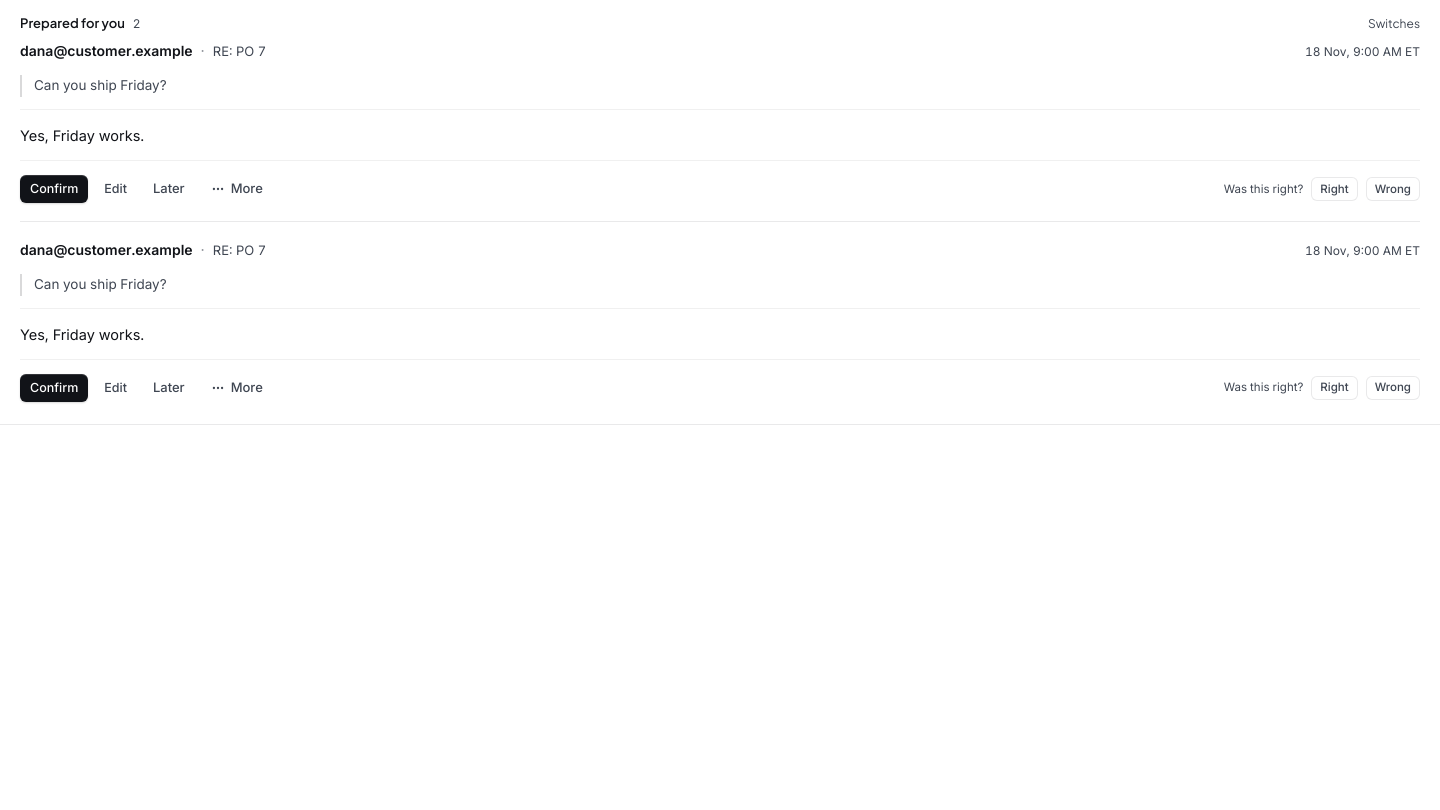
Scenario: the queue on Home and its Switches tab › Always do this is offered only where Auto was earned, for the sender or the whole switch
The image size is (1440, 810).
Click the 2nd button "More" at [237, 388], box [201,372,273,404]
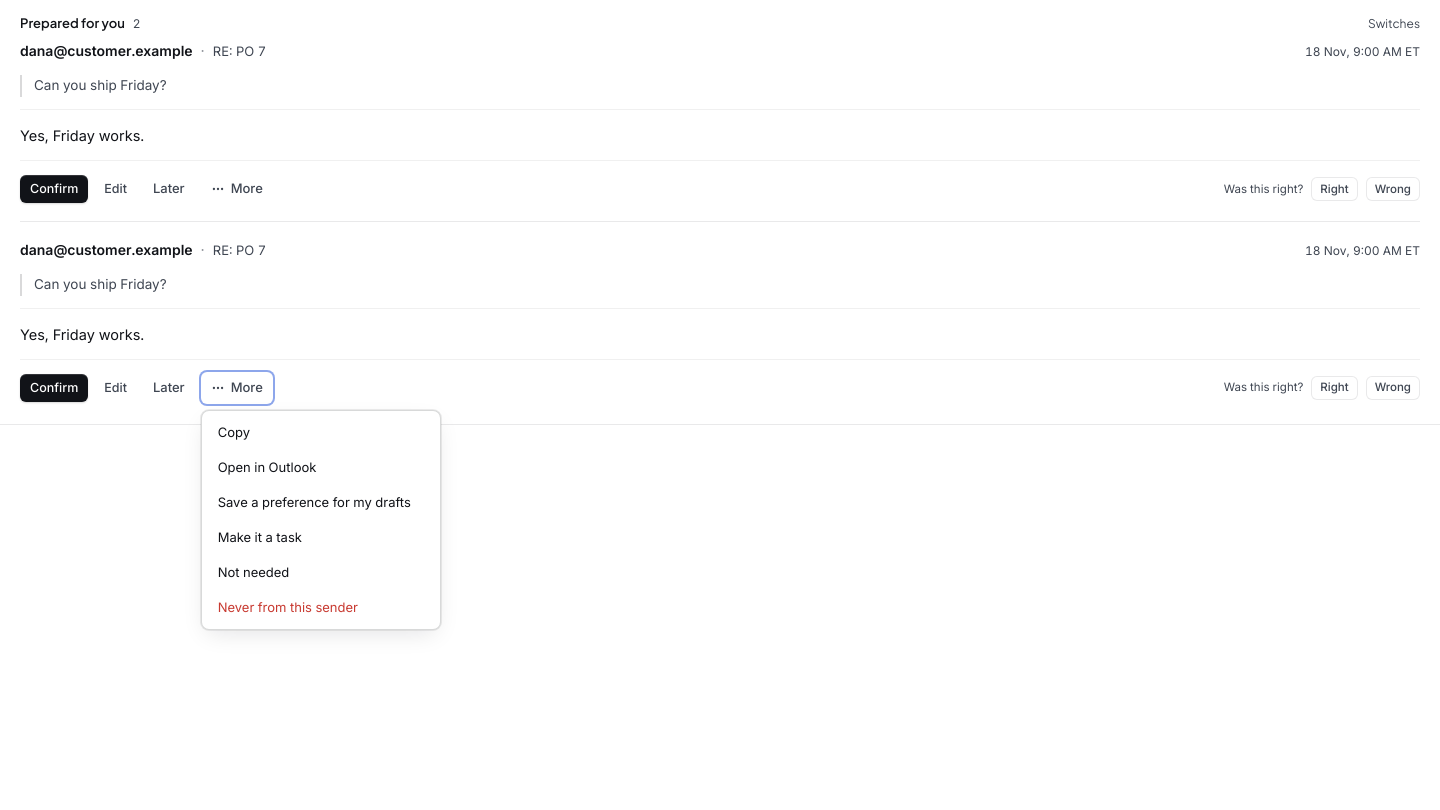
Expected: the menu item "Always" is not shown
Click the 2nd button "More" at [237, 388], box [201,372,273,404]
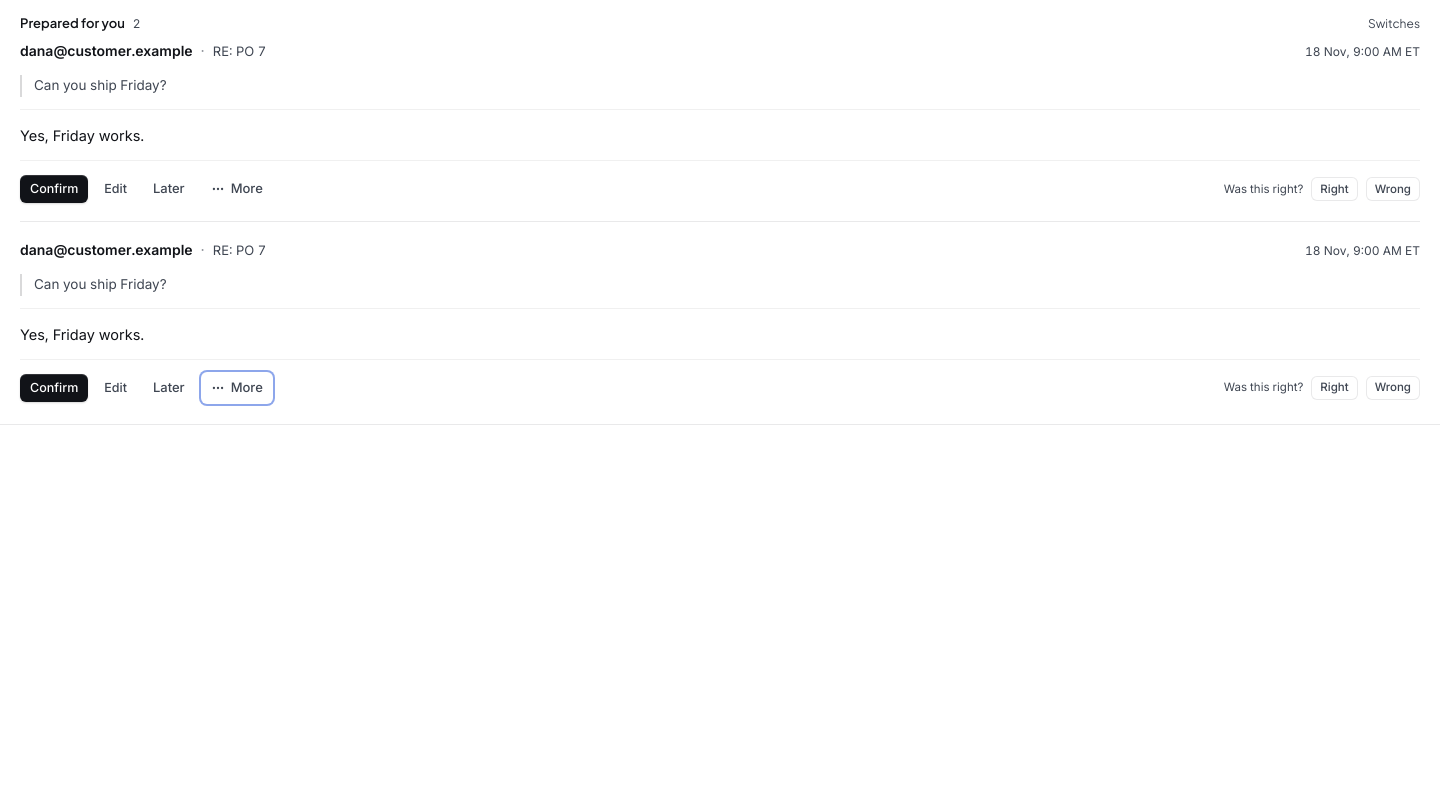
Click the 1st button "More" at [237, 189], box [201,173,273,205]
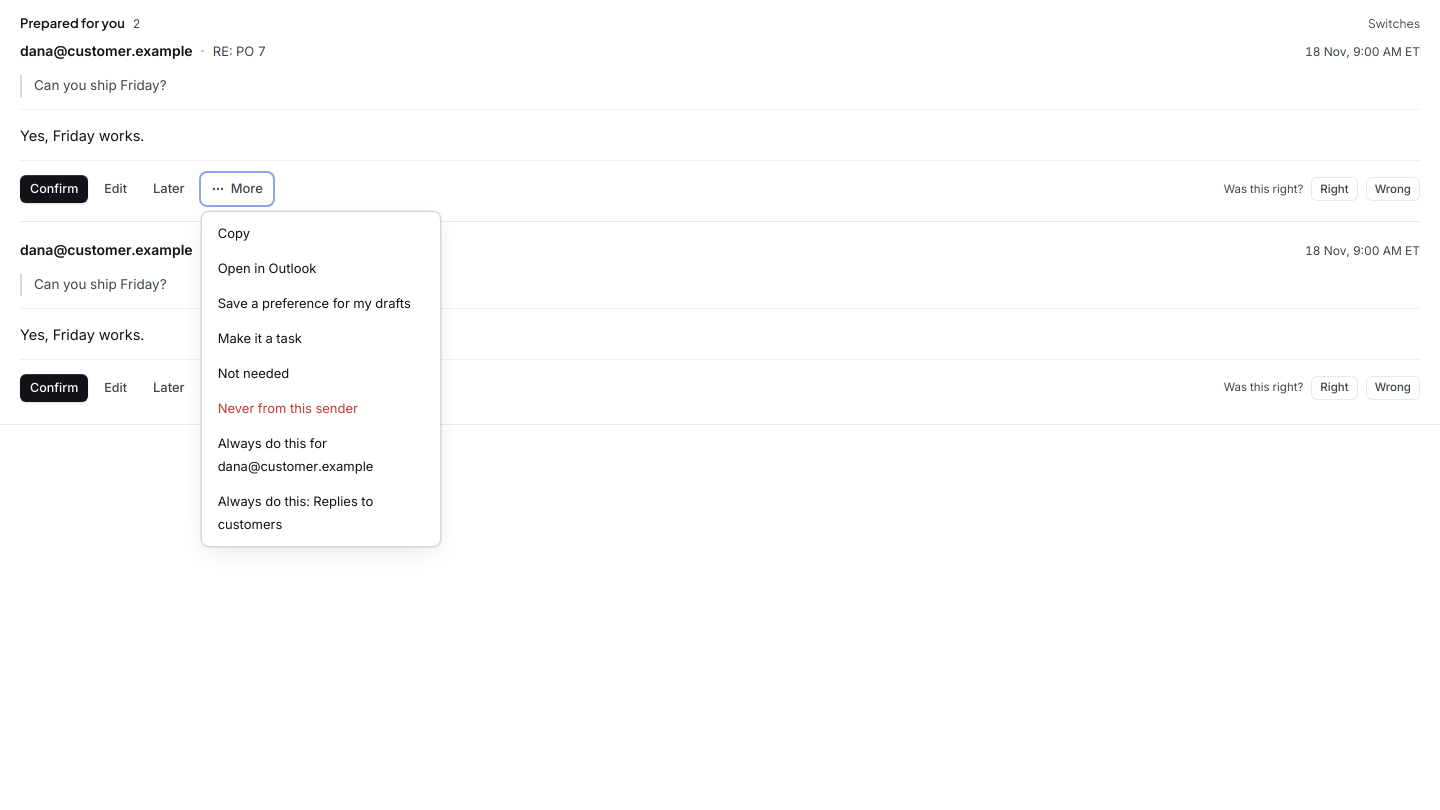
Expected: the menu item "Always do this: Replies to customers" is shown, [206,484,436,542]
Click the menu item "Always do this for dana@customer.example" at [321, 455], box [206,426,436,484]
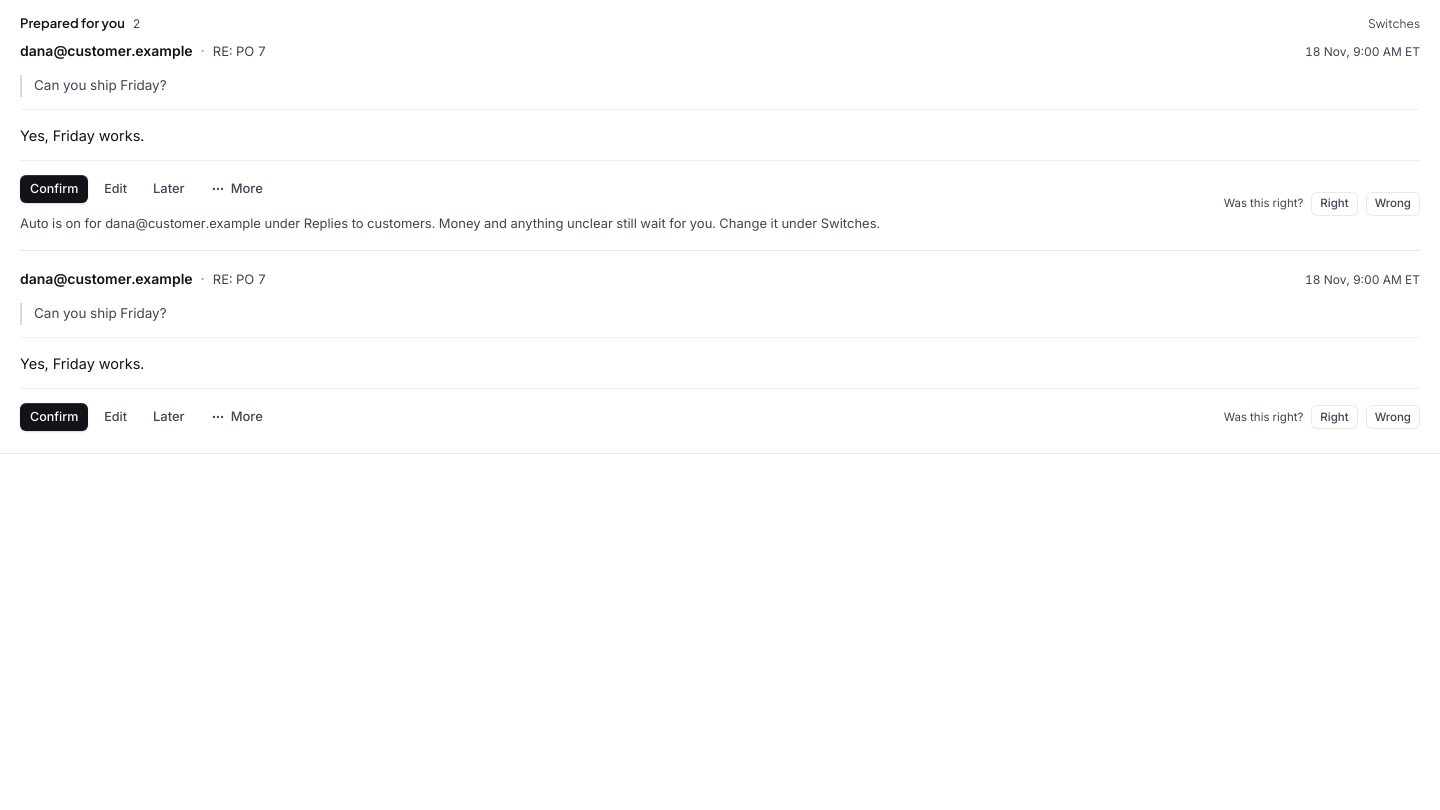
Expected: the text "Auto is on for dana@customer.example under Replies to customers" is shown, [20,215,880,231]
